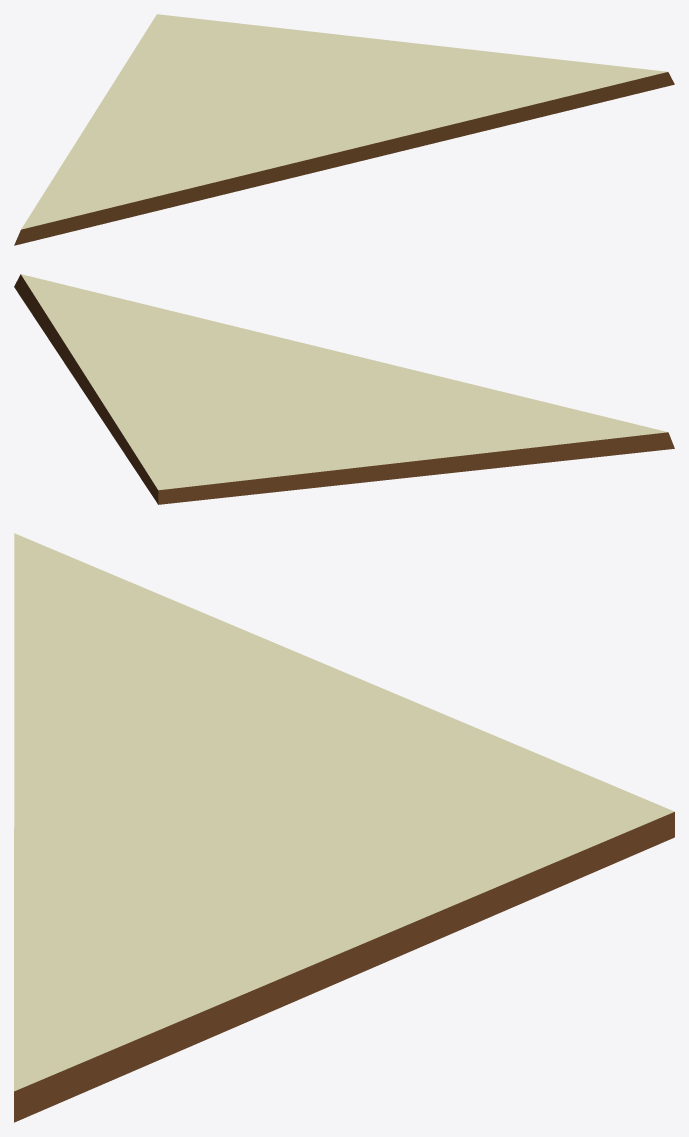
File: splitLogRoofEndLowContent.glb
The picture shows the model from 3 angles, top to bottom: view 1: azimuth 30°, elevation 25°; view 2: azimuth 150°, elevation 25°; view 3: azimuth 270°, elevation 25°; orthographic projection. The views are drawn at different scales.
Visible parts, largest first — view 1: Cylinder.001; view 2: Cylinder.001; view 3: Cylinder.001.
Boxes of the visible parts, x1,y1,x2,y2 form: Cylinder.001: (14, 14, 674, 245); Cylinder.001: (14, 274, 674, 504); Cylinder.001: (14, 533, 674, 1122).
Bounding box in the file's own units: 4.51 × 0.0959 × 2.21.
